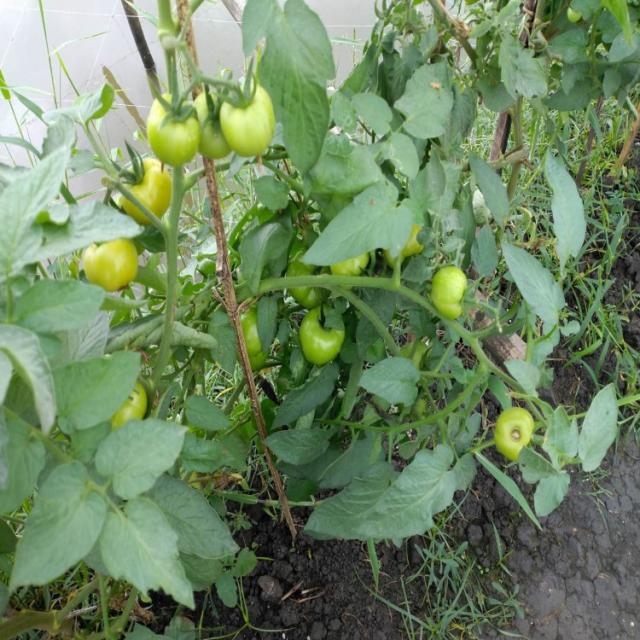tomato: (202, 83, 274, 161), (145, 93, 199, 165), (121, 165, 174, 222), (434, 262, 477, 331), (296, 310, 346, 368), (79, 239, 140, 286), (493, 401, 542, 459), (223, 316, 269, 372), (290, 252, 333, 306), (114, 388, 150, 423), (399, 223, 432, 254), (338, 256, 372, 279)
